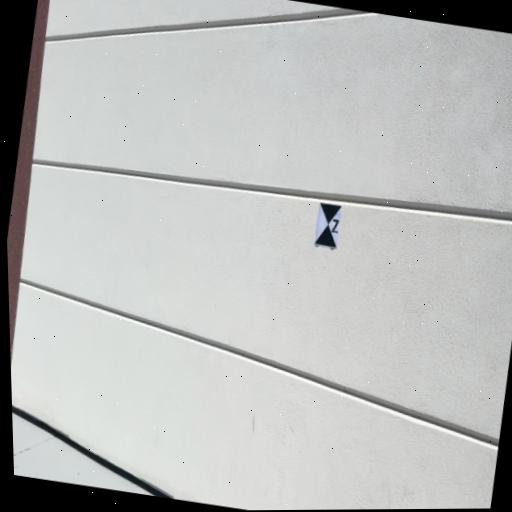target7: (313, 202, 344, 249)
